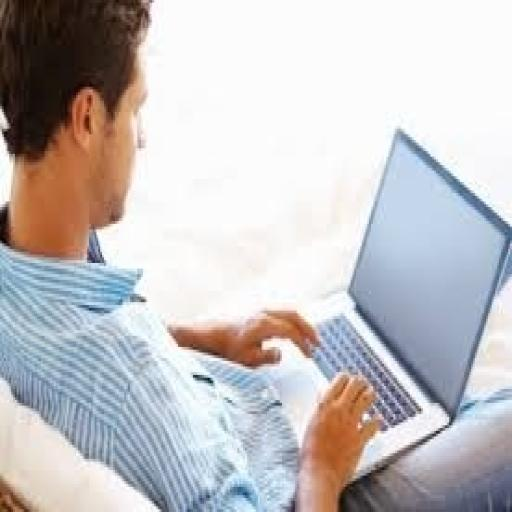using_laptop: (260, 123, 510, 487)
